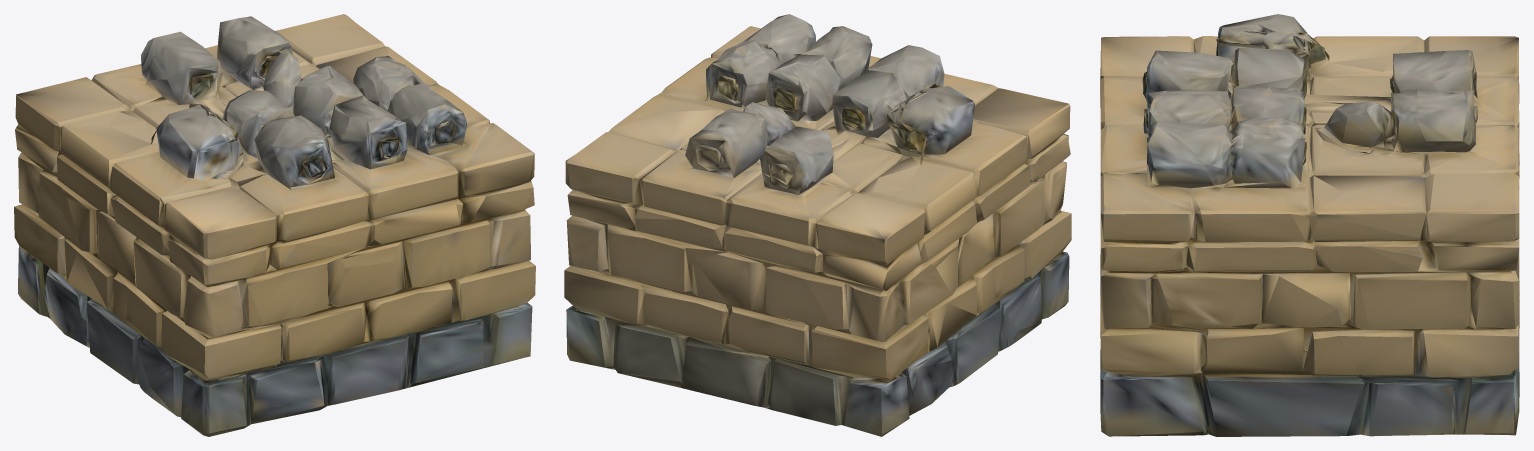
The model's file is cover_half_plains_v1.glb.
The picture shows the model from 3 angles, left to right: view 1: azimuth 30°, elevation 25°; view 2: azimuth 150°, elevation 25°; view 3: azimuth 270°, elevation 25°; orthographic projection. The views are drawn at different scales.
Bounding box in the file's own units: 0.9799 × 0.721 × 0.9798.
1 material, 1 textured.
